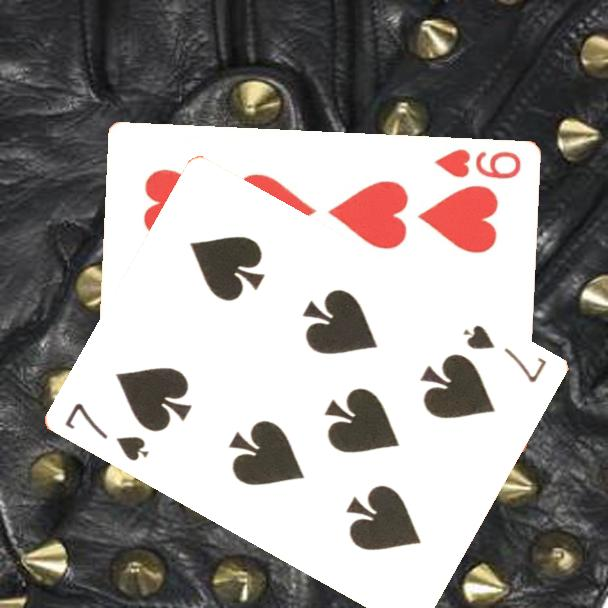h09: (431, 146, 524, 182)
s07: (62, 398, 153, 464), (460, 321, 550, 386)
